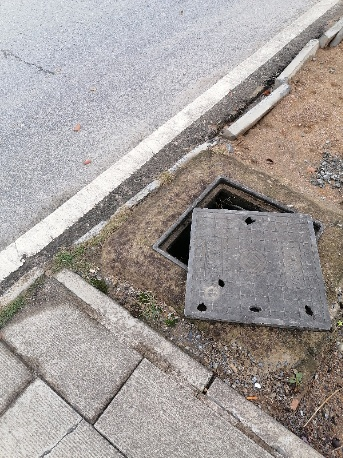uncovered: (151, 175, 332, 333)
